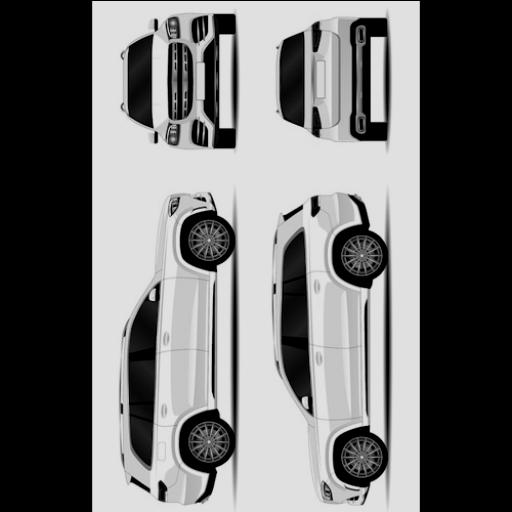suv: (272, 193, 386, 504), (119, 193, 232, 504), (121, 14, 233, 148), (279, 18, 386, 139)
